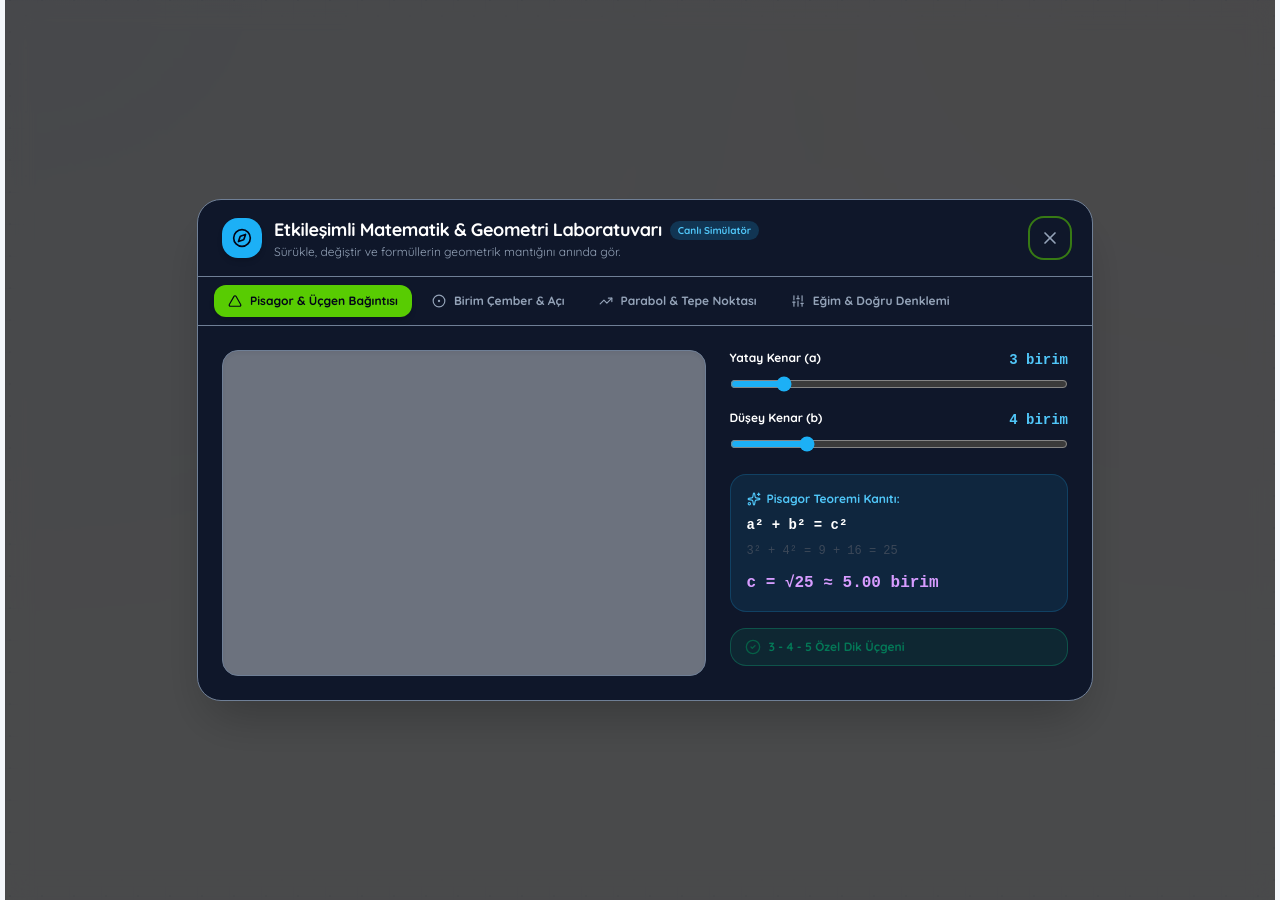
GeometryMathLabModal › switches to Slope tab and displays linear slope calculation
Click the button "Eğim & Doğru Denklemi" at [870, 301], box [777,285,964,317]
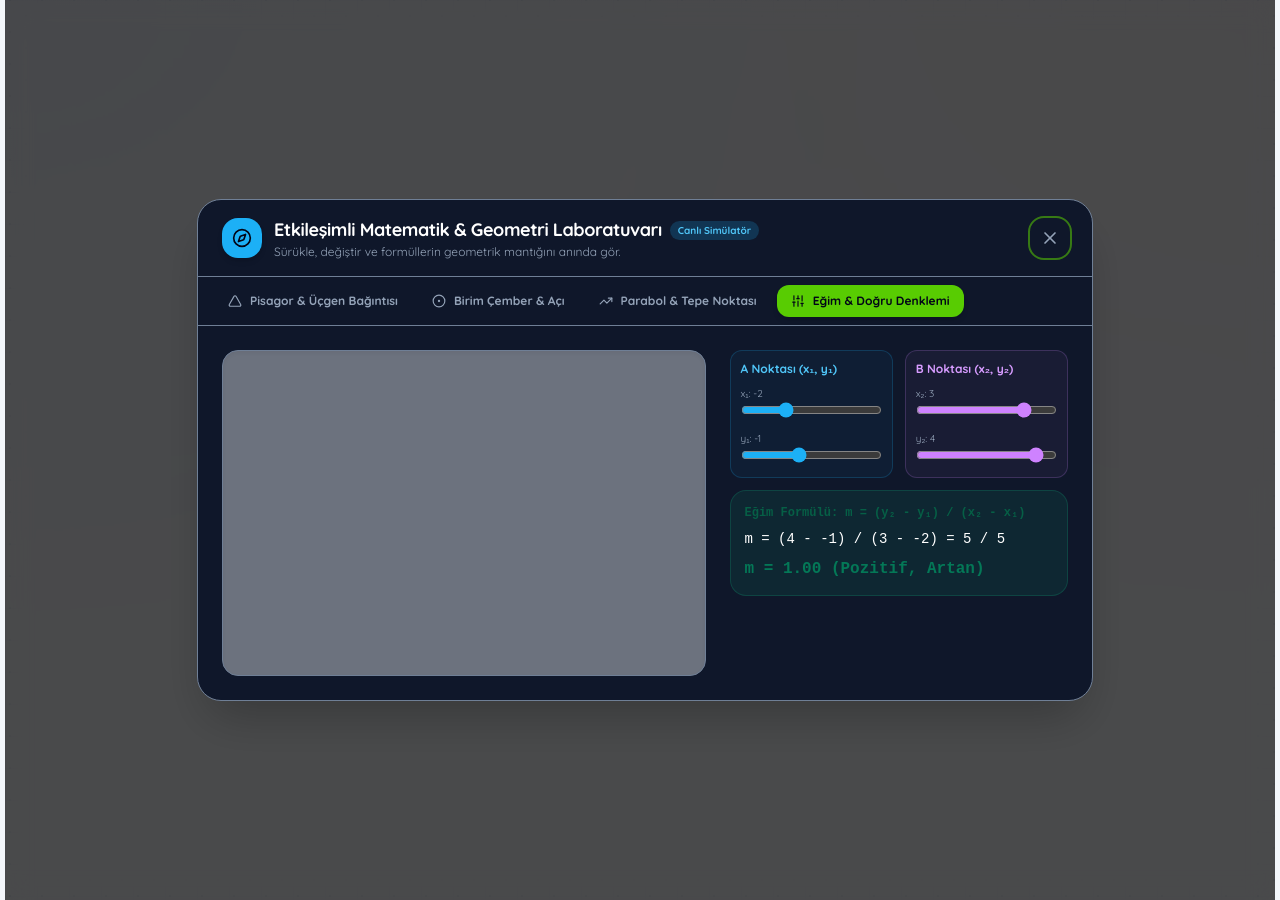
Check: the text "Eğim Formülü: m = (y₂ - y₁) / (x₂ - x₁)" is shown, box [744,505,1053,521]
